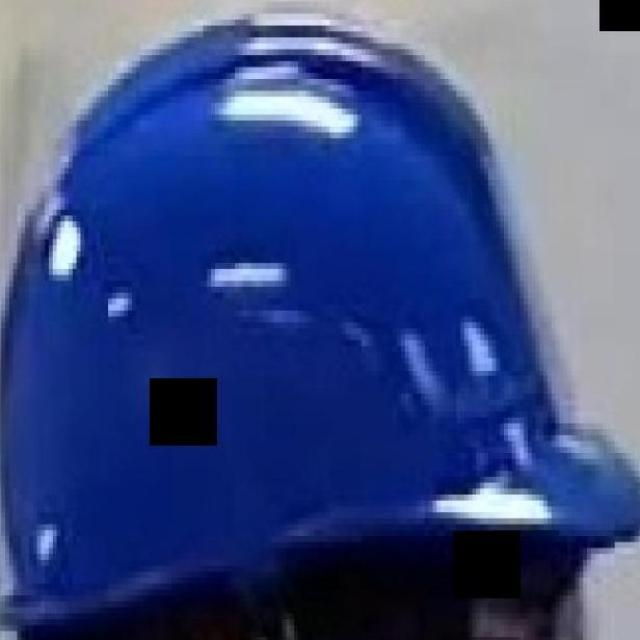blue helmet: (1, 6, 640, 634)
